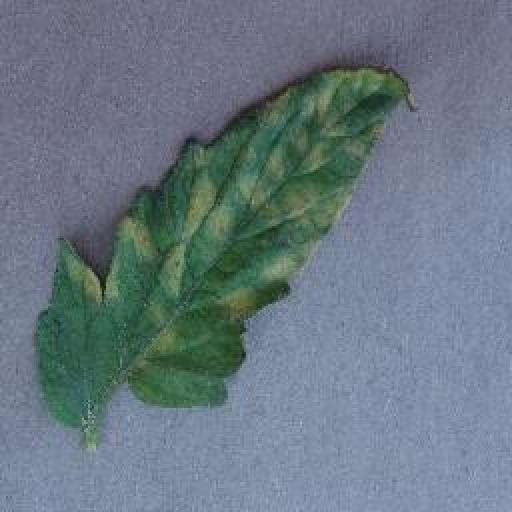disease_tomato: (34, 65, 410, 427)
